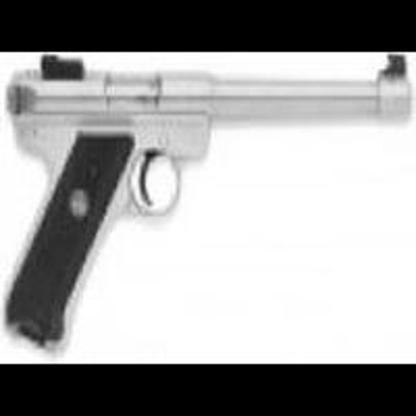weapon: (5, 53, 416, 357)
